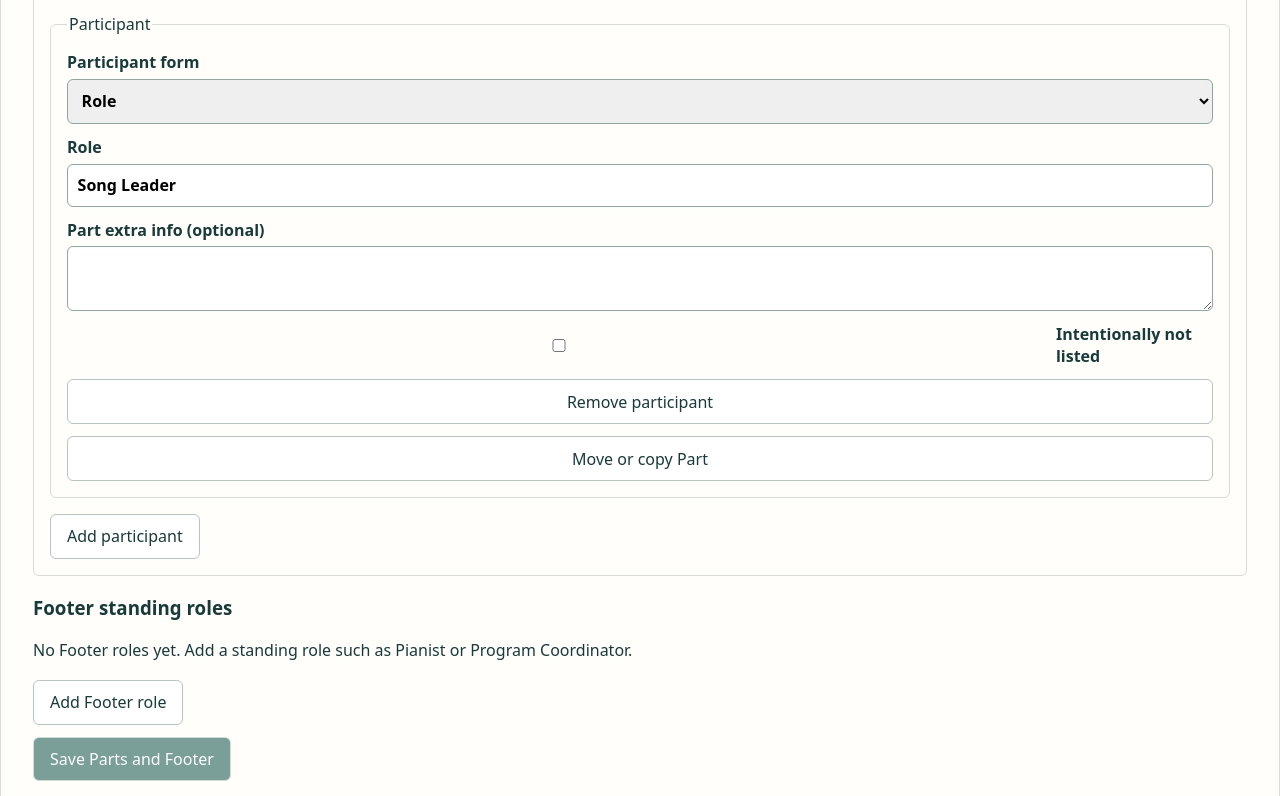
Test: previews destination Parts before moving or copying and acknowledges the completed operation
The width and height of the screenshot is (1280, 796).
(page scrolled)
Click the button "Move or copy Part": {"x": 640, "y": 459} [67,436,1213,481]
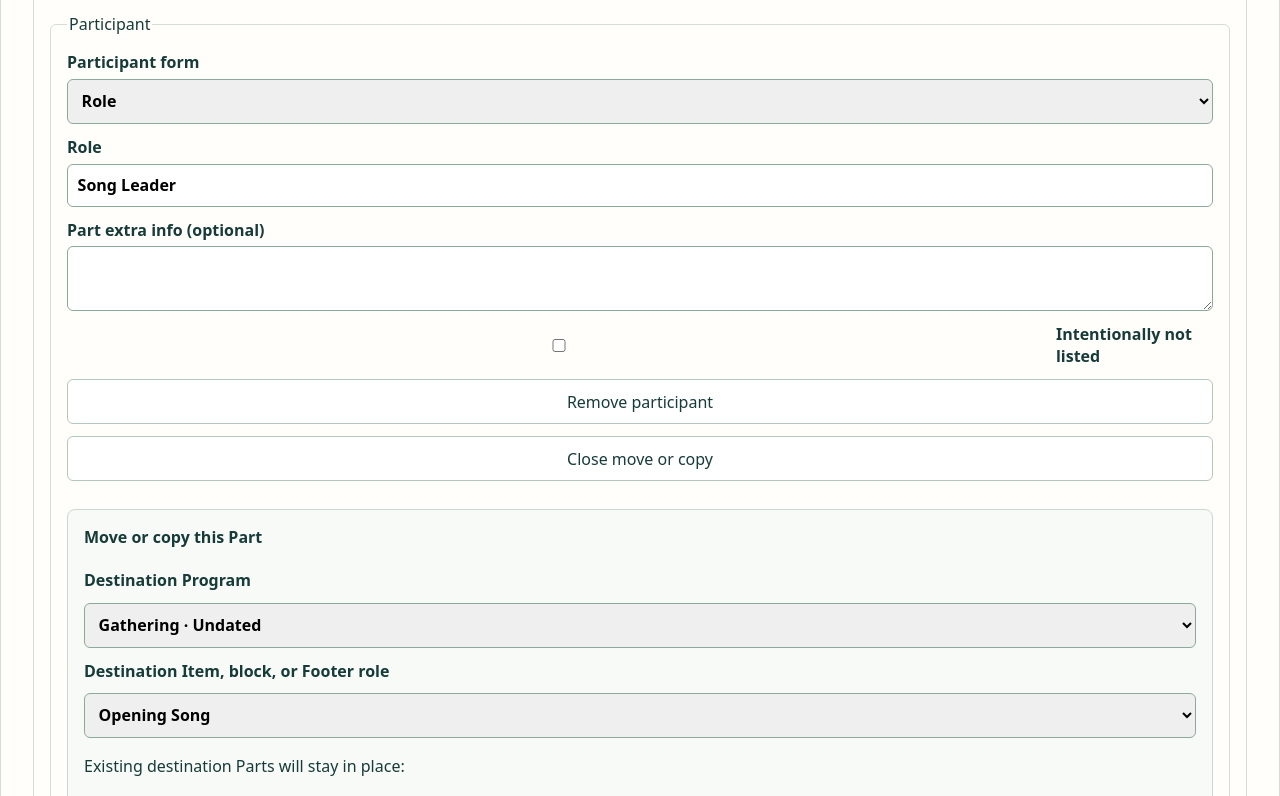
Select "Sabbath School · Undated" in the dropdown labelled "Destination Program": {"x": 640, "y": 625} [84,602,1196,648]
(page scrolled)
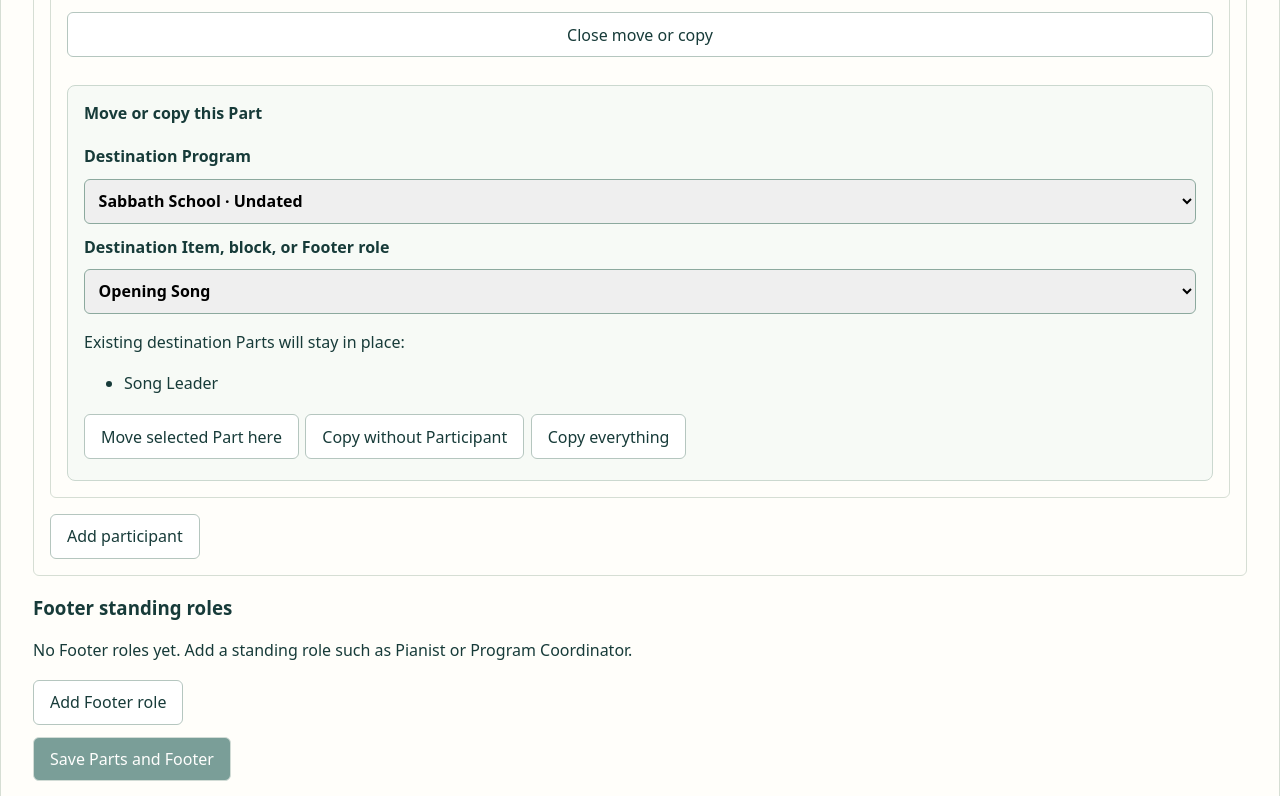
Expected: the text "Existing destination Parts will stay in place:" is shown, [84,331,405,353]
Expected: the list item "Song Leader" is shown, [124,372,218,394]
Click the button "Copy everything": {"x": 609, "y": 437} [531,414,686,459]
(page scrolled)
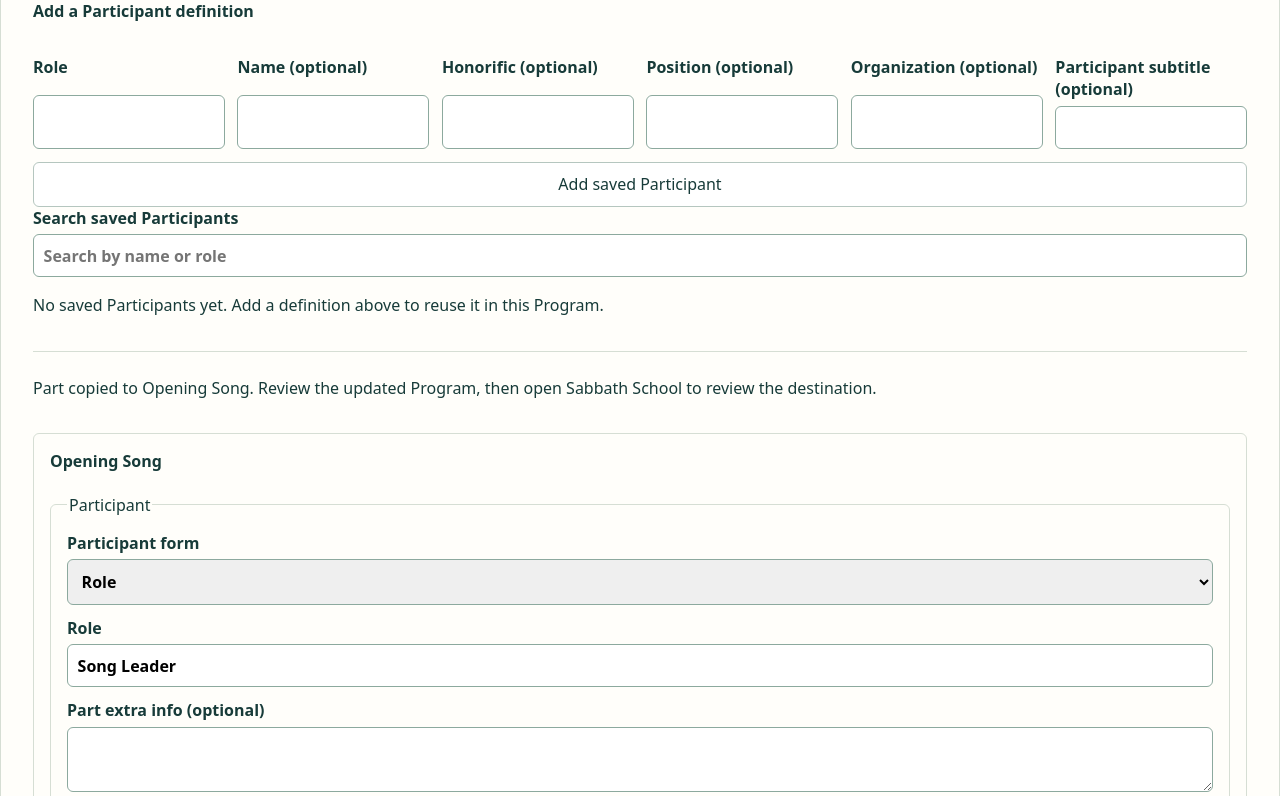
Expected: the text "Part copied to Opening Song" is shown, [33,377,877,399]
